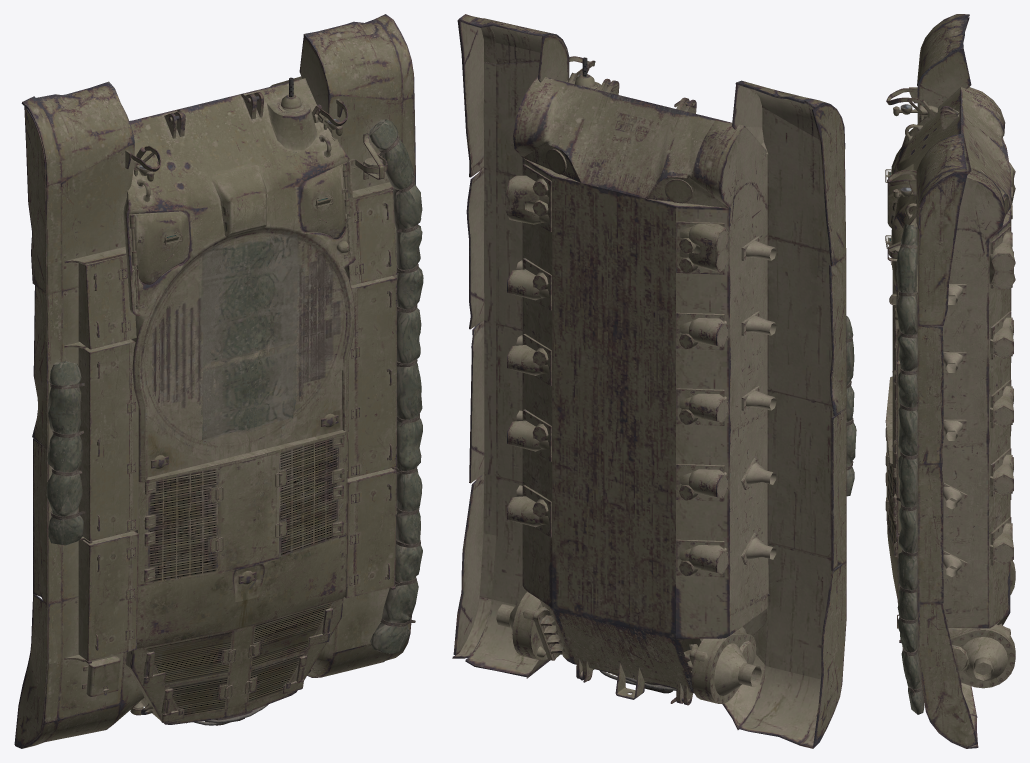
The model's file is Hull.glb.
The picture shows the model from 3 angles, left to right: view 1: azimuth 30°, elevation 25°; view 2: azimuth 150°, elevation 25°; view 3: azimuth 270°, elevation 25°; orthographic projection. The views are drawn at different scales.
Parts seen in each view (by area): view 1: set_0_group_0; view 2: set_0_group_0; view 3: set_0_group_0.
Boxes of the visible parts, x1=… form: set_0_group_0: x1=14, y1=14, x2=423, y2=748; set_0_group_0: x1=452, y1=14, x2=856, y2=748; set_0_group_0: x1=885, y1=14, x2=1015, y2=748.
Size of the model in its own units: 3.82 by 6.34 by 1.29.
Materials: 1 (1 with a texture image).
